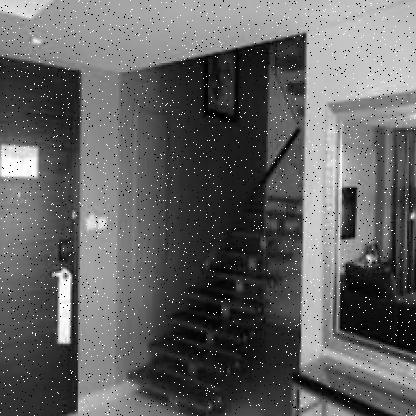stair_up: (118, 286, 250, 411)
